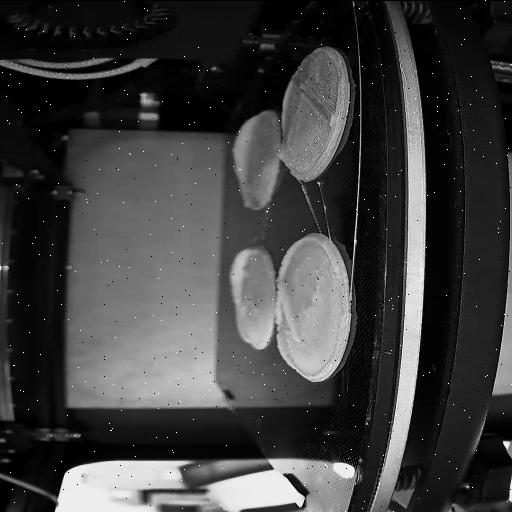over_extrusion: (276, 234, 338, 280), (224, 245, 270, 303), (229, 114, 259, 196), (276, 284, 302, 368), (274, 146, 284, 160)
